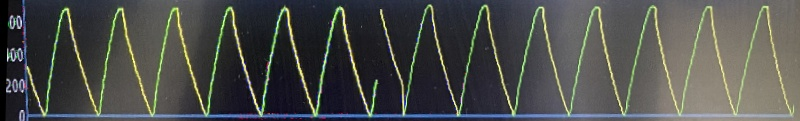normal_volume: (419, 0, 800, 121), (36, 0, 372, 118)
